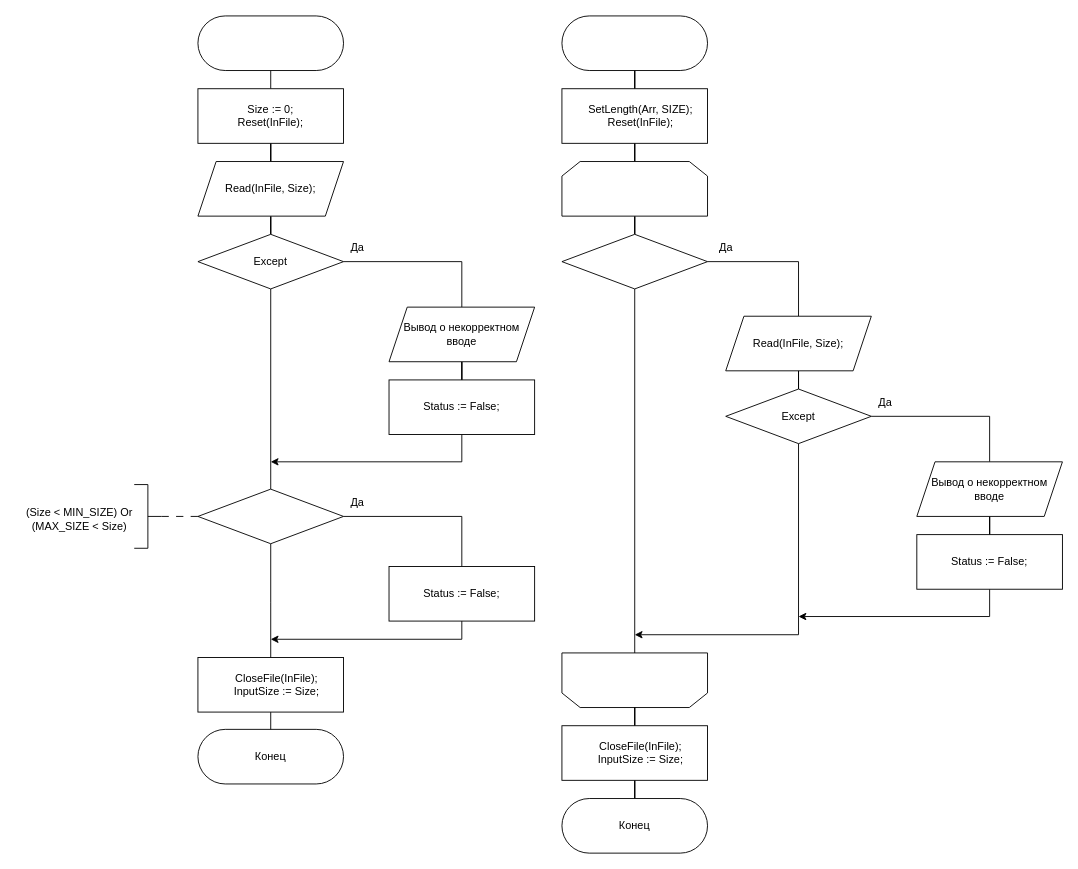
The diagram is 1078 pixels wide and 869 high, and some of its shapes have lost their labels. The centre of each missing label's shape, as x and y in pixels:
A1 I := 1 To SIZE: pixel 634 188
Function TFileReader.InputArray(Const SIZE: Integer): TArray;: pixel 634 43
Function TFileReader.InputSize: Integer;: pixel 270 43
I A1: pixel 634 680
Status: pixel 634 261
